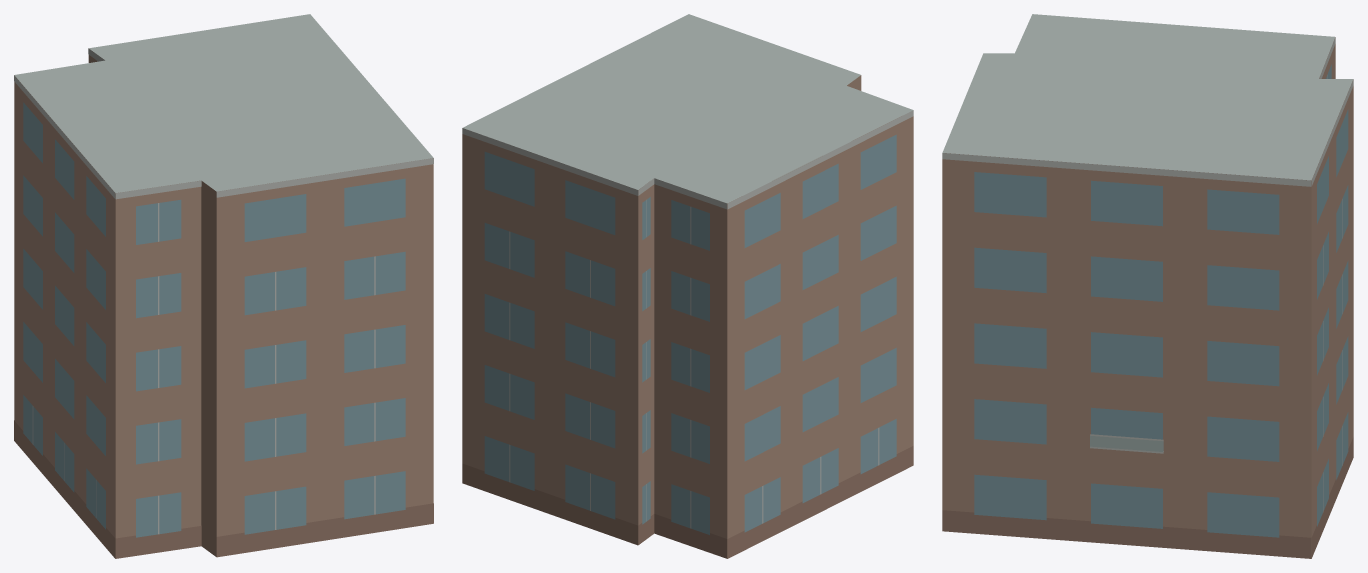
File: survey-upis-32852631.glb
3 views of the same model, side by side, from view 1: azimuth 30°, elevation 25°; view 2: azimuth 150°, elevation 25°; view 3: azimuth 270°, elevation 25° (orthographic). The views are drawn at different scales.
Parts seen in each view (by area): view 1: survey-upis-32852631.tmp; view 2: survey-upis-32852631.tmp; view 3: survey-upis-32852631.tmp.
Part boxes in pixels (box(x1,y1,x2,y2)): survey-upis-32852631.tmp: box(14, 14, 433, 558); survey-upis-32852631.tmp: box(462, 14, 913, 558); survey-upis-32852631.tmp: box(942, 14, 1353, 558).
Bounding box in the file's own units: 13.59 × 14.4 × 14.19.
